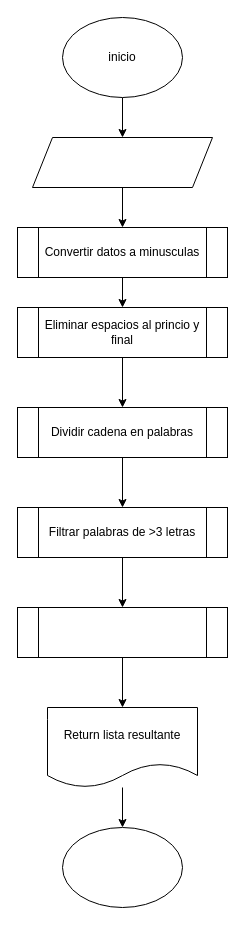
Image size: 245x925. Some labels were removed from this diagram. The box of each missing label's shape, as (x1, y1, x2, y2) in pixels:
Fin: (62, 826, 182, 908)
Ordenar palabras alfabeticamente: (16, 606, 228, 658)
Solicitar datos al usuario: (32, 136, 212, 188)
